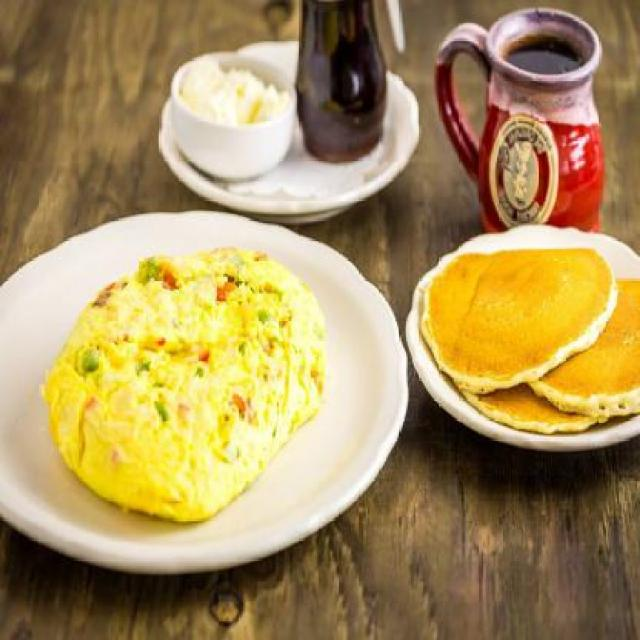ice cream: (173, 49, 292, 133)
omelette: (42, 238, 336, 530)
pancakes: (425, 228, 640, 437)
